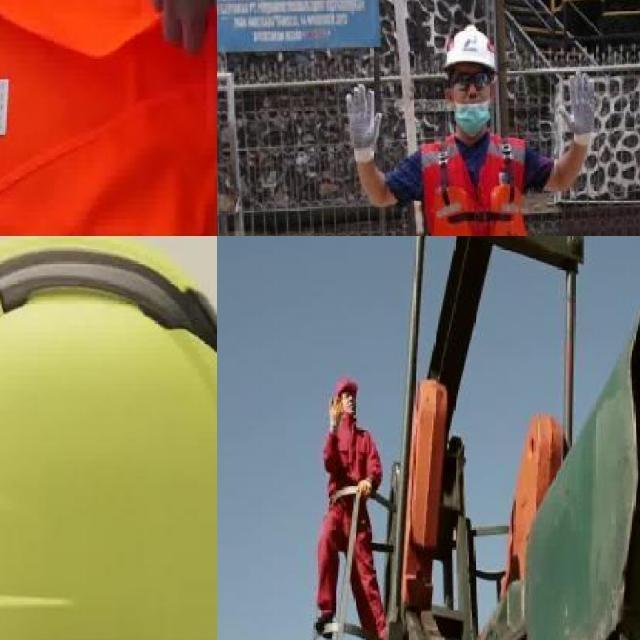apron: (558, 68, 596, 150), (346, 84, 382, 164), (355, 478, 373, 502), (330, 398, 342, 426)
